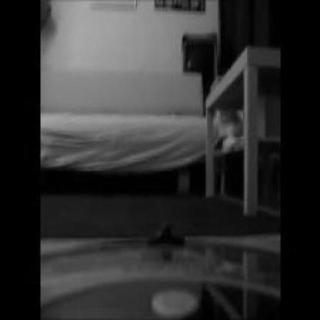other: (36, 52, 234, 170)
